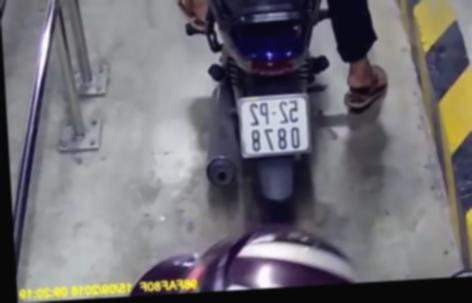License_Plate: (230, 89, 320, 165)
